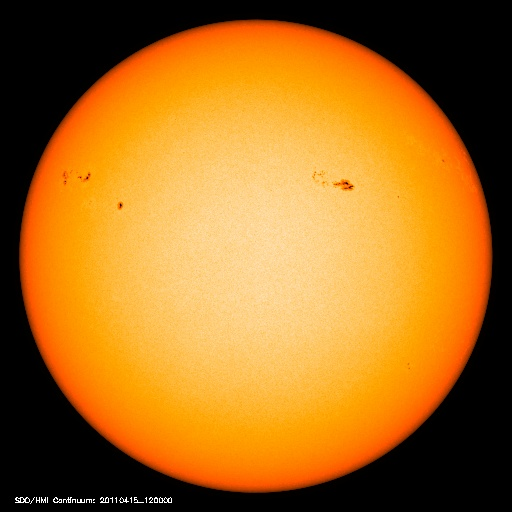sunspot: (53, 160, 133, 215), (305, 165, 406, 204), (432, 149, 455, 171)
